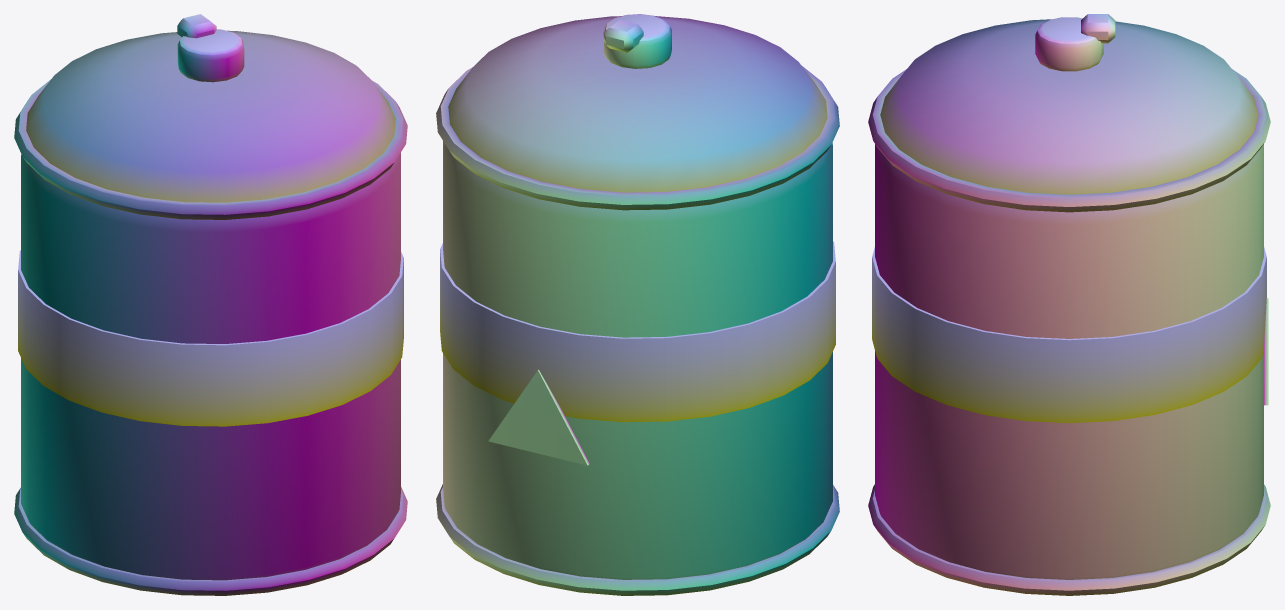
The model's file is prop_barrel.glb.
3 views of the same model, side by side, from view 1: azimuth 30°, elevation 25°; view 2: azimuth 150°, elevation 25°; view 3: azimuth 270°, elevation 25° (orthographic). The views are drawn at different scales.
Visible parts, largest first — view 1: prop_barrel_mesh; view 2: prop_barrel_mesh; view 3: prop_barrel_mesh.
Part boxes in pixels (x1,y1,x2,y2): prop_barrel_mesh: [14, 14, 407, 595]; prop_barrel_mesh: [436, 14, 839, 595]; prop_barrel_mesh: [868, 14, 1270, 595].
Bounding box in the file's own units: 0.352 × 0.48 × 0.352.
